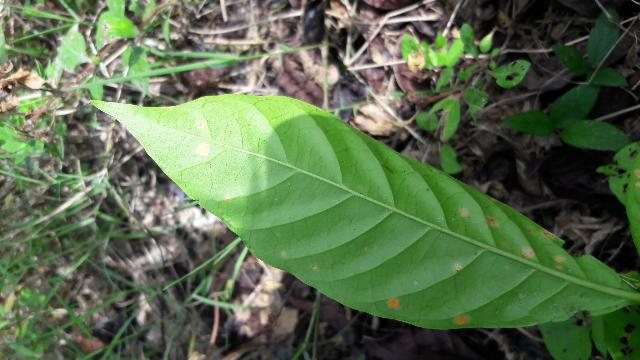rust_level_1: (89, 94, 631, 329)
